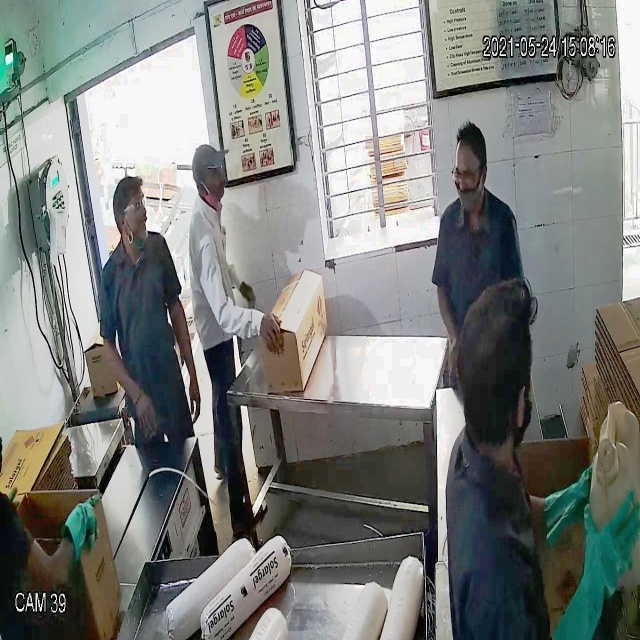Gafas: (450, 156, 487, 191), (118, 194, 152, 226)
